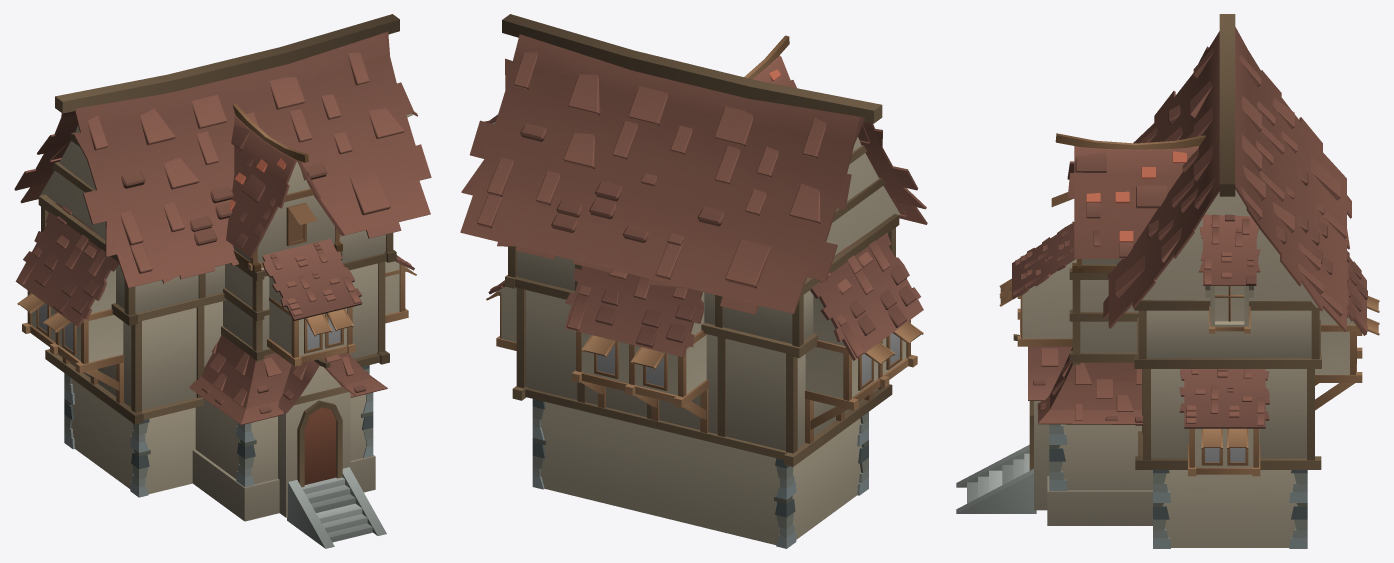
The model's file is ZLP_Build_B_4.FBX.
3 views of the same model, side by side, from view 1: azimuth 30°, elevation 25°; view 2: azimuth 150°, elevation 25°; view 3: azimuth 270°, elevation 25° (orthographic). The views are drawn at different scales.
Parts seen in each view (by area): view 1: ZLP_Build_B_4; view 2: ZLP_Build_B_4; view 3: ZLP_Build_B_4.
Part boxes in pixels (<box>): ZLP_Build_B_4: <box>14,14,431,548</box>; ZLP_Build_B_4: <box>460,14,927,548</box>; ZLP_Build_B_4: <box>956,14,1379,548</box>.
Bounding box in the file's own units: 1022 × 1021 × 978.
